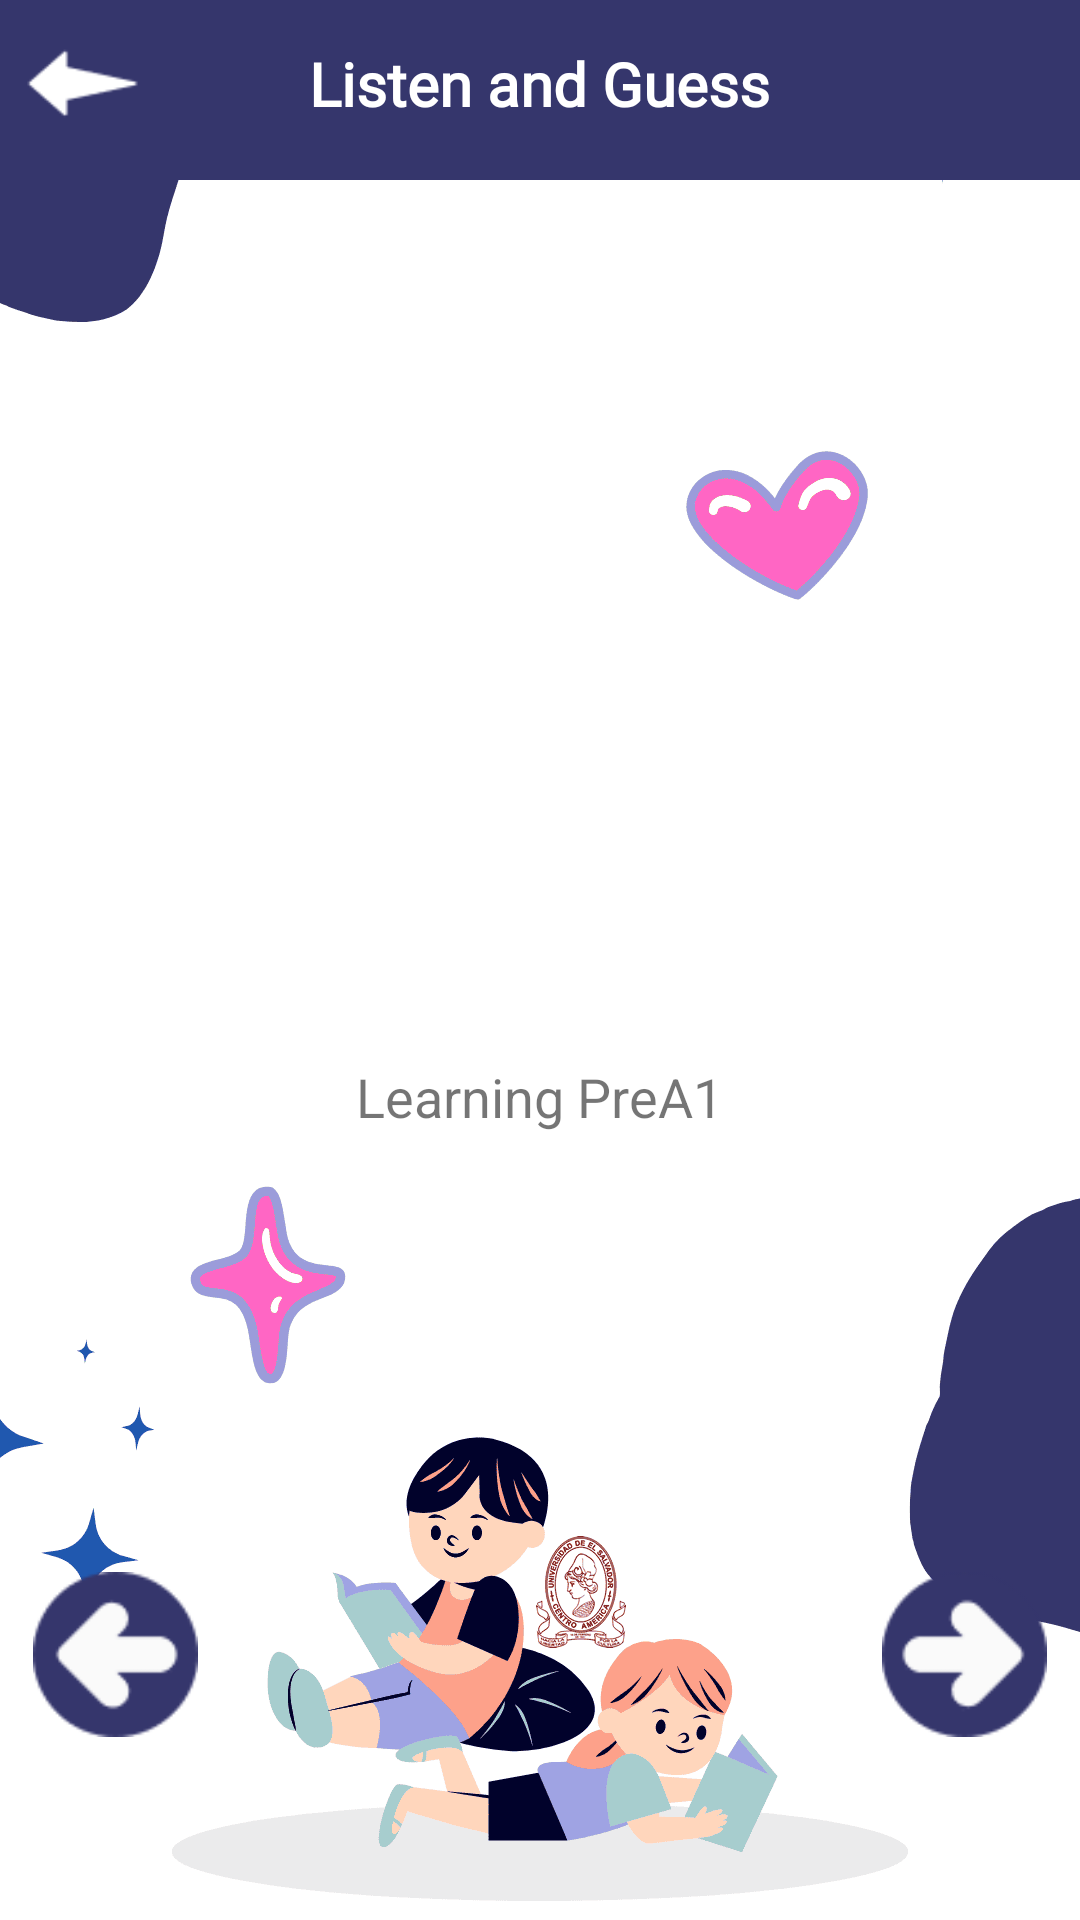

Where icons sit on this 1080×1920 app screen, as (x1, y1, x2, y2):
details left: (33, 1572, 198, 1737)
details right: (882, 1572, 1047, 1737)
left back: (28, 51, 138, 116)
